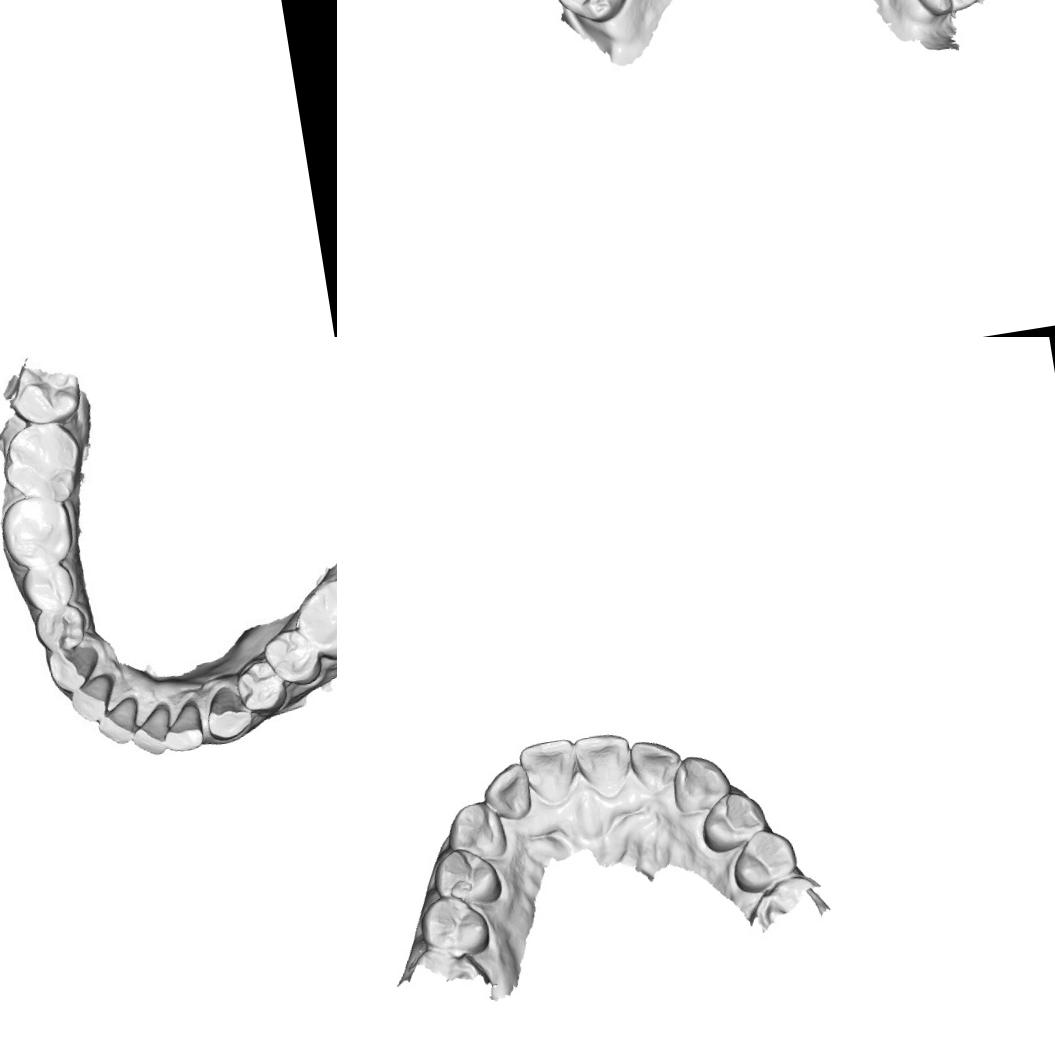canine: (440, 796, 512, 868), (667, 747, 737, 820), (43, 641, 102, 695), (204, 681, 256, 738)
incisor: (570, 727, 640, 804), (514, 736, 584, 810), (626, 734, 686, 798), (478, 760, 536, 825), (162, 700, 214, 757), (66, 672, 120, 724), (129, 701, 175, 757), (93, 696, 139, 748)
molar: (0, 485, 81, 574), (0, 418, 82, 503), (296, 573, 337, 665), (546, 0, 637, 31), (901, 0, 994, 21)
premolar: (414, 888, 495, 963), (724, 822, 802, 898), (429, 842, 506, 916), (694, 786, 772, 856), (261, 622, 324, 691), (22, 554, 81, 616), (232, 656, 291, 714), (36, 603, 88, 655)
